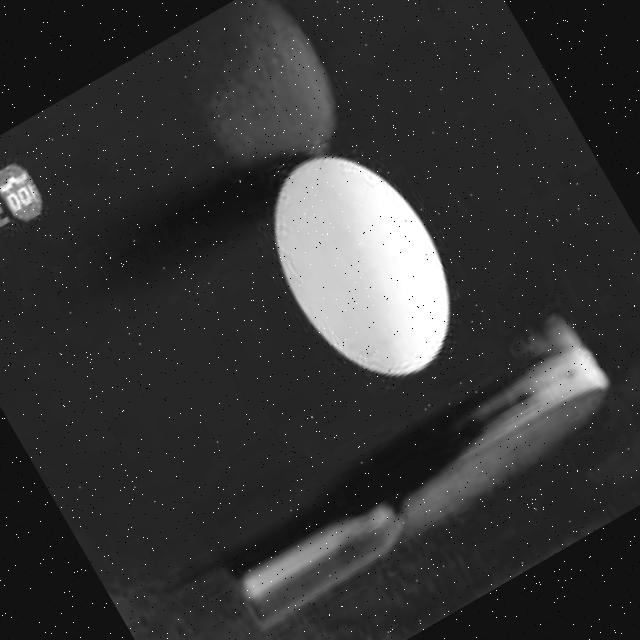ping-pong-ball: (238, 121, 490, 408)
